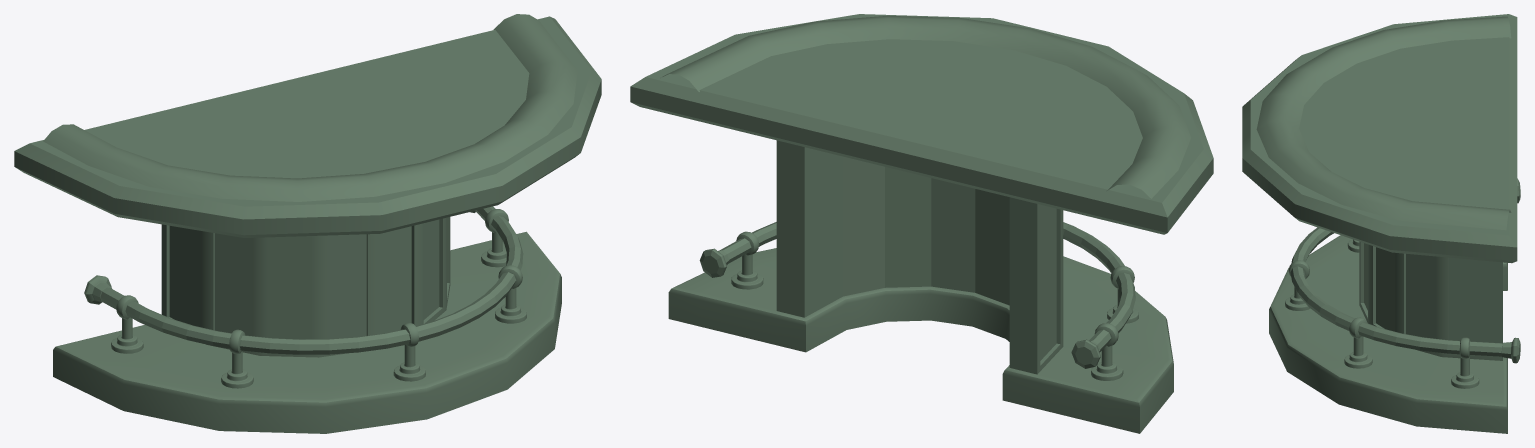
Rendered from BlackJackTable.fbx.
3 views of the same model, side by side, from view 1: azimuth 30°, elevation 25°; view 2: azimuth 150°, elevation 25°; view 3: azimuth 270°, elevation 25° (orthographic). The views are drawn at different scales.
Visible parts, largest first — view 1: TableTop, TableBase1, FrontBoards, ArmRest, FootRestBar, pCylinder2 (×5); view 2: TableTop, FrontBoards, TableBase1, ArmRest, FootRestBar, pCylinder2 (×2), FootrestBarCap2, FootrestBarCap1; view 3: TableTop, TableBase1, ArmRest, FrontBoards, FootRestBar, pCylinder2 (×3), FootrestBarCap1.
Boxes of the visible parts, x1=… form: TableTop: x1=14, y1=16, x2=601, y2=237; TableBase1: x1=53, y1=231, x2=561, y2=433; FrontBoards: x1=161, y1=217, x2=450, y2=357; ArmRest: x1=43, y1=14, x2=577, y2=201; FootRestBar: x1=100, y1=206, x2=523, y2=354; pCylinder2 (×5): x1=111, y1=232, x2=526, y2=388; TableTop: x1=630, y1=14, x2=1213, y2=234; FrontBoards: x1=776, y1=140, x2=1063, y2=374; TableBase1: x1=668, y1=248, x2=1173, y2=433; ArmRest: x1=662, y1=15, x2=1190, y2=198; FootRestBar: x1=719, y1=222, x2=1135, y2=352; pCylinder2 (×2): x1=731, y1=254, x2=1123, y2=380; FootrestBarCap2: x1=1071, y1=339, x2=1100, y2=368; FootrestBarCap1: x1=699, y1=248, x2=729, y2=277; TableTop: x1=1242, y1=14, x2=1517, y2=263; TableBase1: x1=1269, y1=235, x2=1507, y2=433; ArmRest: x1=1256, y1=16, x2=1511, y2=230; FrontBoards: x1=1359, y1=241, x2=1502, y2=360; FootRestBar: x1=1290, y1=227, x2=1502, y2=356; pCylinder2 (×3): x1=1285, y1=287, x2=1479, y2=388; FootrestBarCap1: x1=1501, y1=337, x2=1520, y2=363.
Bounding box in the file's own units: 37.86 × 16.68 × 19.34.
